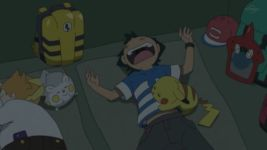pikachu: (151, 74, 222, 131)
